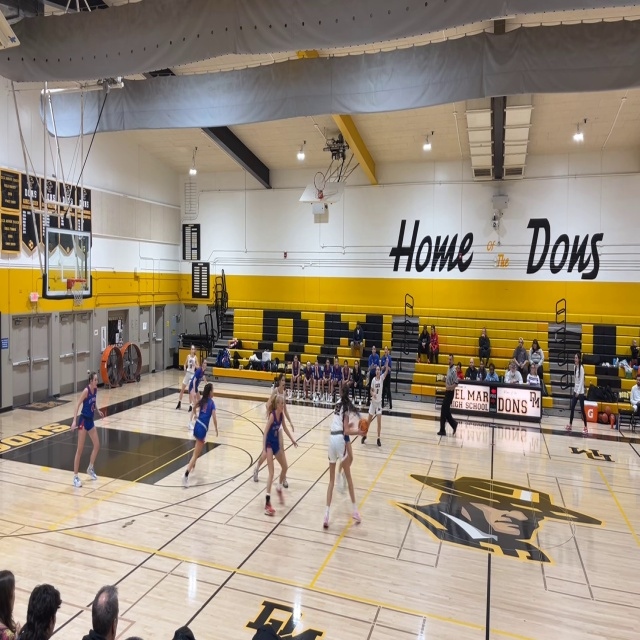Basketball: (359, 418, 369, 433), (598, 413, 608, 424)
